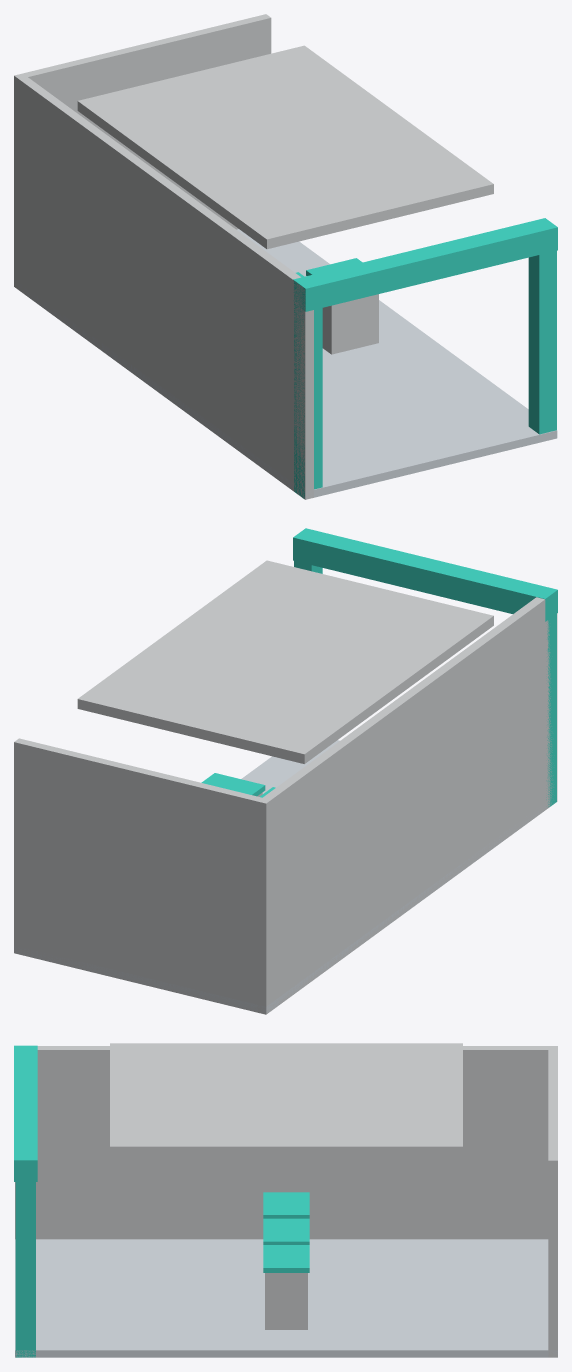
The picture shows the model from 3 angles, top to bottom: view 1: azimuth 30°, elevation 25°; view 2: azimuth 150°, elevation 25°; view 3: azimuth 270°, elevation 25°; orthographic projection. The views are drawn at different scales.
Visible parts, largest first — view 1: Exhibition Booth Concept; view 2: Exhibition Booth Concept; view 3: Exhibition Booth Concept.
Part boxes in pixels (x1,y1,x2,y2): Exhibition Booth Concept: (14,14,557,499); Exhibition Booth Concept: (14,528,557,1014); Exhibition Booth Concept: (14,1043,557,1357).
Size of the model in its own units: 4 by 3.34 by 8.01.
